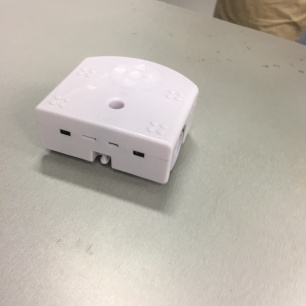thymio: (33, 49, 205, 195)
